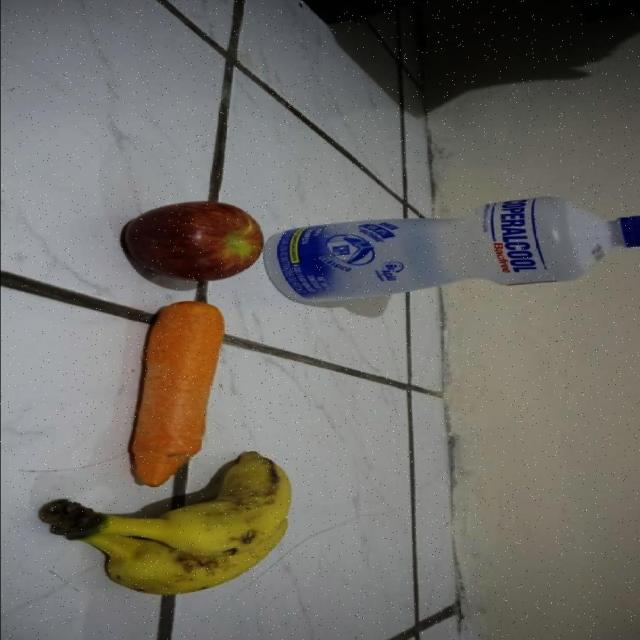AlcoholBottle: (265, 198, 640, 303)
Apple: (115, 200, 262, 282)
Banana: (43, 489, 291, 608)
Carrot: (100, 298, 229, 488)
